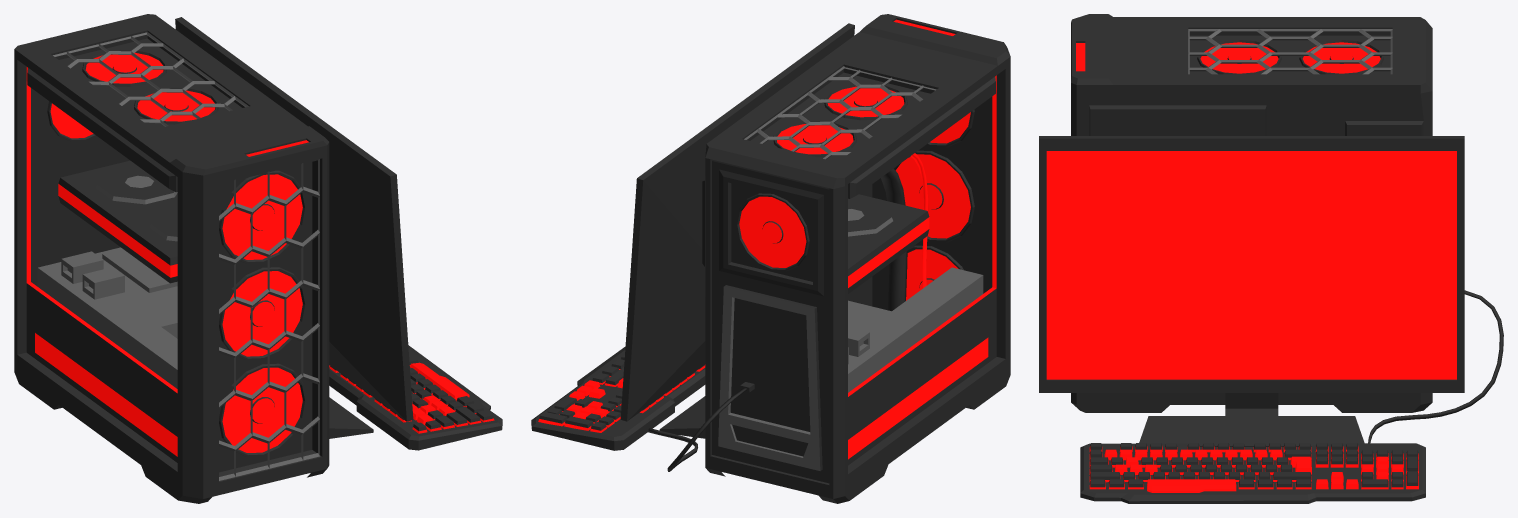
The model's file is PC Tower.fbx.
3 renders of one model, left to right at view 1: azimuth 30°, elevation 25°; view 2: azimuth 150°, elevation 25°; view 3: azimuth 270°, elevation 25°, orthographic.
Parts seen in each view (by area): view 1: Cube, Monitor Stand, Circle, Cube.001, Plane.003, Plane.001, Cube.003, Circle.002, Keyboard, keys, Plane.002, Cylinder (+1 smaller); view 2: Cube, Monitor Stand, Cube.001, Plane.003, Circle, Circle.001, Keyboard, Circle.002, Cube.003, keys, Plane.002, BezierCurve.002 (+3 smaller); view 3: Monitor Stand, Cube, keys, Keyboard, Plane.002, Circle.002, BezierCurve.
Boxes of the visible parts, left/top/right/bottom form: Cube: left=14, top=14, right=329, bottom=503; Monitor Stand: left=175, top=17, right=413, bottom=438; Circle: left=219, top=170, right=306, bottom=456; Cube.001: left=37, top=247, right=177, bottom=388; Plane.003: left=31, top=88, right=129, bottom=286; Plane.001: left=219, top=159, right=319, bottom=480; Cube.003: left=58, top=160, right=177, bottom=283; Circle.002: left=82, top=49, right=218, bottom=124; Keyboard: left=329, top=345, right=502, bottom=450; keys: left=329, top=355, right=494, bottom=433; Plane.002: left=53, top=32, right=248, bottom=126; Cylinder: left=95, top=164, right=177, bottom=241; Cube: left=702, top=14, right=1010, bottom=503; Monitor Stand: left=620, top=23, right=854, bottom=438; Cube.001: left=848, top=267, right=983, bottom=392; Plane.003: left=848, top=96, right=992, bottom=310; Circle: left=888, top=109, right=974, bottom=300; Circle.001: left=736, top=193, right=809, bottom=271; Keyboard: left=531, top=346, right=705, bottom=450; Circle.002: left=773, top=83, right=907, bottom=157; Cube.003: left=848, top=194, right=929, bottom=293; keys: left=538, top=355, right=705, bottom=432; Plane.002: left=744, top=66, right=936, bottom=159; BezierCurve.002: left=881, top=168, right=907, bottom=311; Monitor Stand: left=1039, top=136, right=1464, bottom=446; Cube: left=1071, top=14, right=1432, bottom=412; keys: left=1089, top=443, right=1418, bottom=492; Keyboard: left=1080, top=443, right=1425, bottom=503; Plane.002: left=1188, top=29, right=1392, bottom=74; Circle.002: left=1197, top=39, right=1383, bottom=74; BezierCurve: left=1368, top=290, right=1503, bottom=443.
Bounding box in the file's own units: 373 × 367 × 462.
